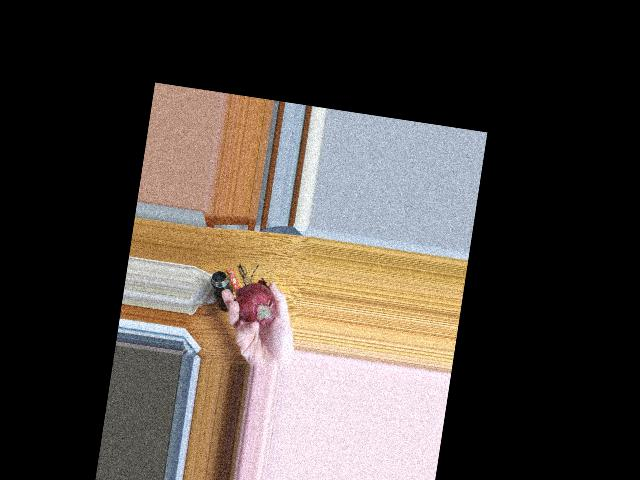onion: (235, 285, 280, 327)
